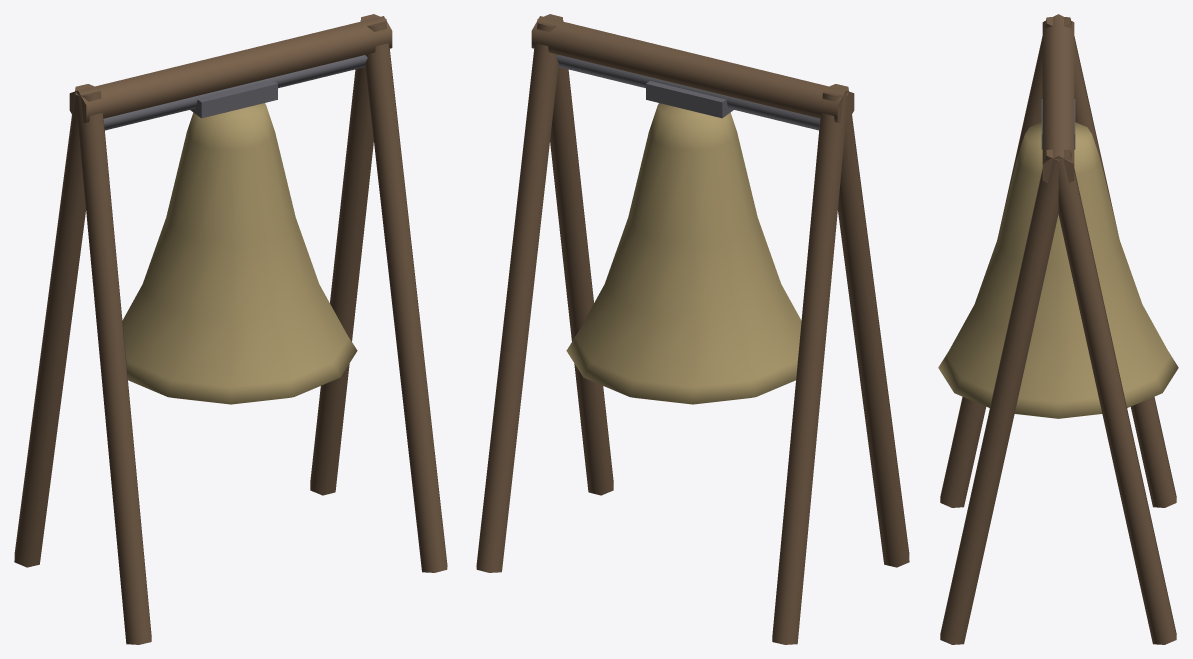
File: ChapelBell.fbx
3 views of the same model, side by side, from view 1: azimuth 30°, elevation 25°; view 2: azimuth 150°, elevation 25°; view 3: azimuth 270°, elevation 25° (orthographic). The views are drawn at different scales.
Visible parts, largest first — view 1: ChapelBell; view 2: ChapelBell; view 3: ChapelBell.
Boxes of the visible parts, x1,y1,x2,y2 form: ChapelBell: (14, 14, 447, 644); ChapelBell: (476, 14, 909, 644); ChapelBell: (938, 14, 1178, 644).
Size of the model in its own units: 1.26 by 1.92 by 0.86.
